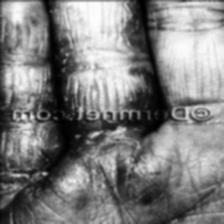Non-Cancerous Skin Condition: (0, 0, 164, 100), (0, 131, 148, 224)
